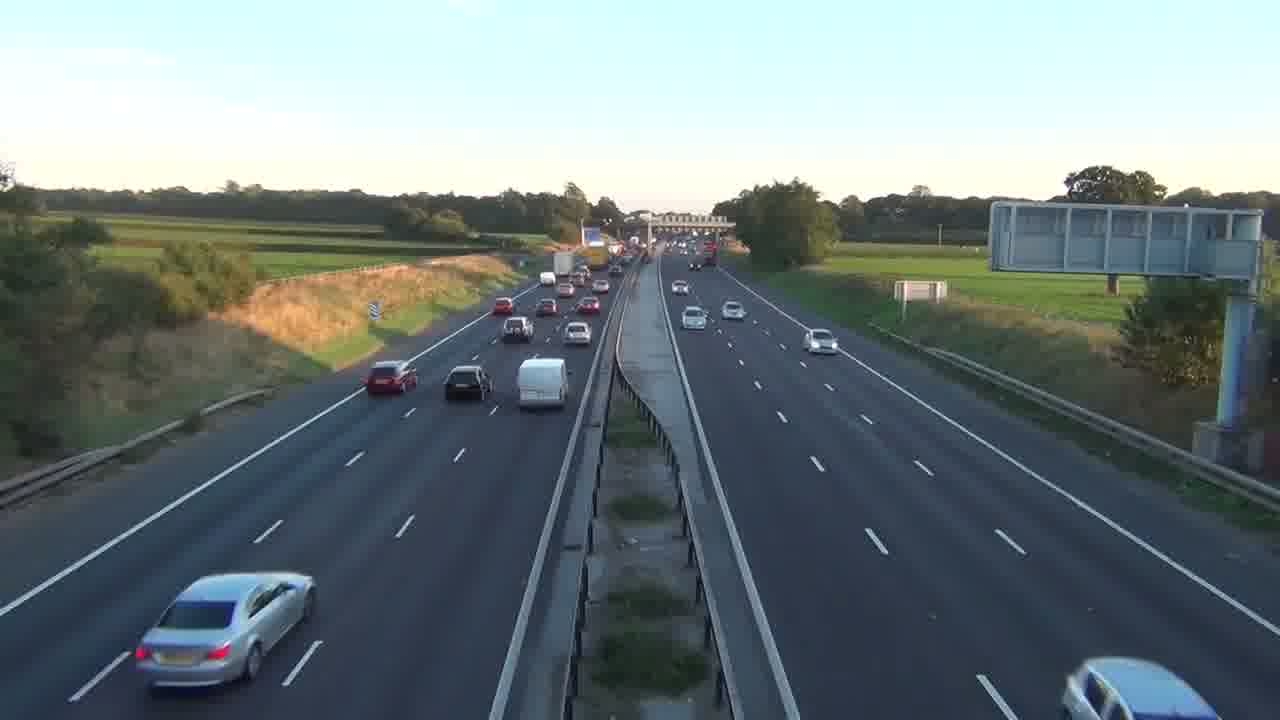car: (132, 570, 317, 694), (1058, 655, 1221, 719), (365, 360, 414, 395), (444, 364, 489, 402), (805, 328, 839, 356), (501, 315, 534, 343), (563, 320, 592, 345), (681, 305, 707, 329), (721, 298, 745, 319), (493, 296, 514, 315), (672, 279, 690, 294)
